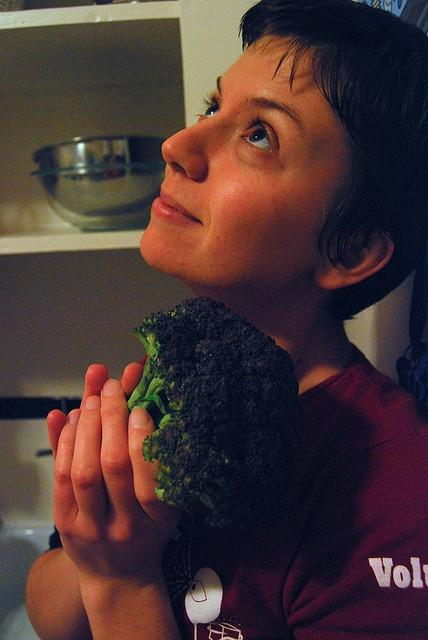broccoli: (127, 296, 304, 532)
